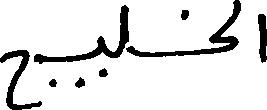X: (210, 0, 241, 58), (0, 45, 27, 109), (120, 0, 130, 59), (257, 9, 266, 67), (95, 31, 104, 81)
